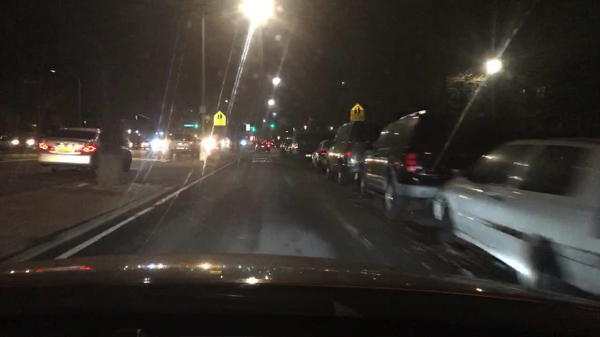car: (430, 135, 599, 302), (358, 105, 493, 220), (36, 125, 134, 174), (326, 124, 387, 184), (291, 133, 318, 164), (169, 132, 201, 158), (309, 140, 334, 171), (201, 134, 221, 154), (150, 138, 170, 154), (0, 135, 22, 149), (23, 134, 38, 150), (254, 140, 270, 154), (284, 140, 294, 155), (279, 139, 288, 153), (140, 138, 150, 148)
traffic light: (250, 125, 255, 133)
traffic sign: (347, 101, 366, 123), (213, 110, 226, 126), (270, 119, 274, 132)
